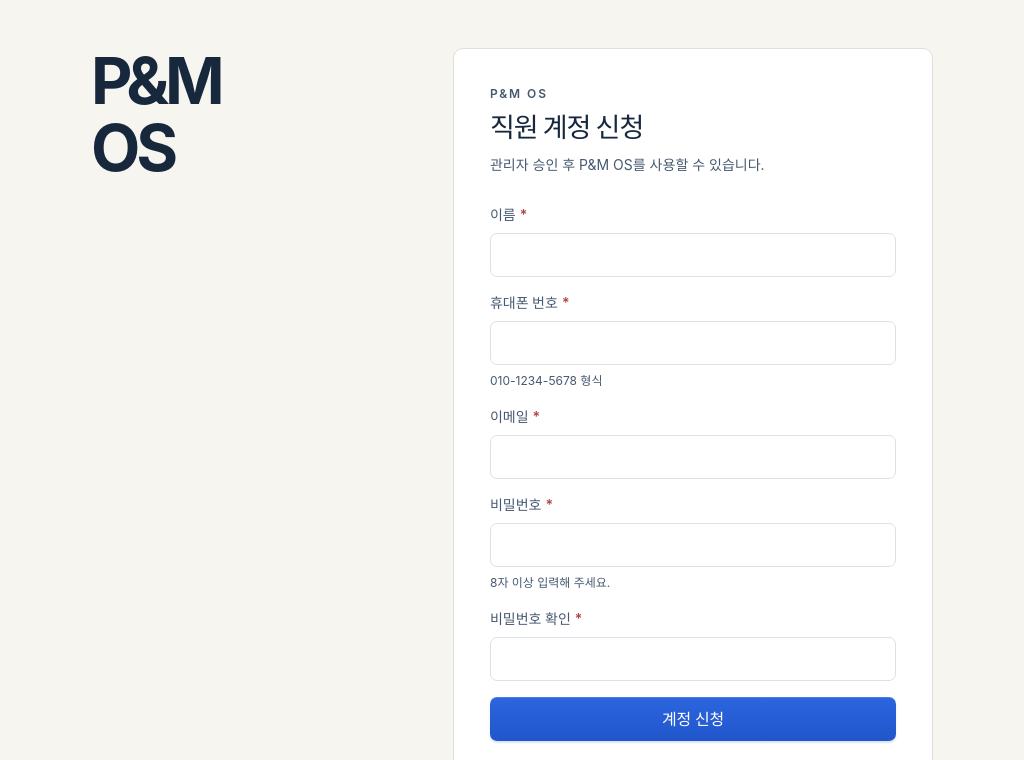
Test: Signup error presentation preserves validation and focus › keeps the original field label and associates the nearby error without submitting
Click the button "계정 신청" at (693, 719), box x1=490 y1=697 x2=896 y2=741
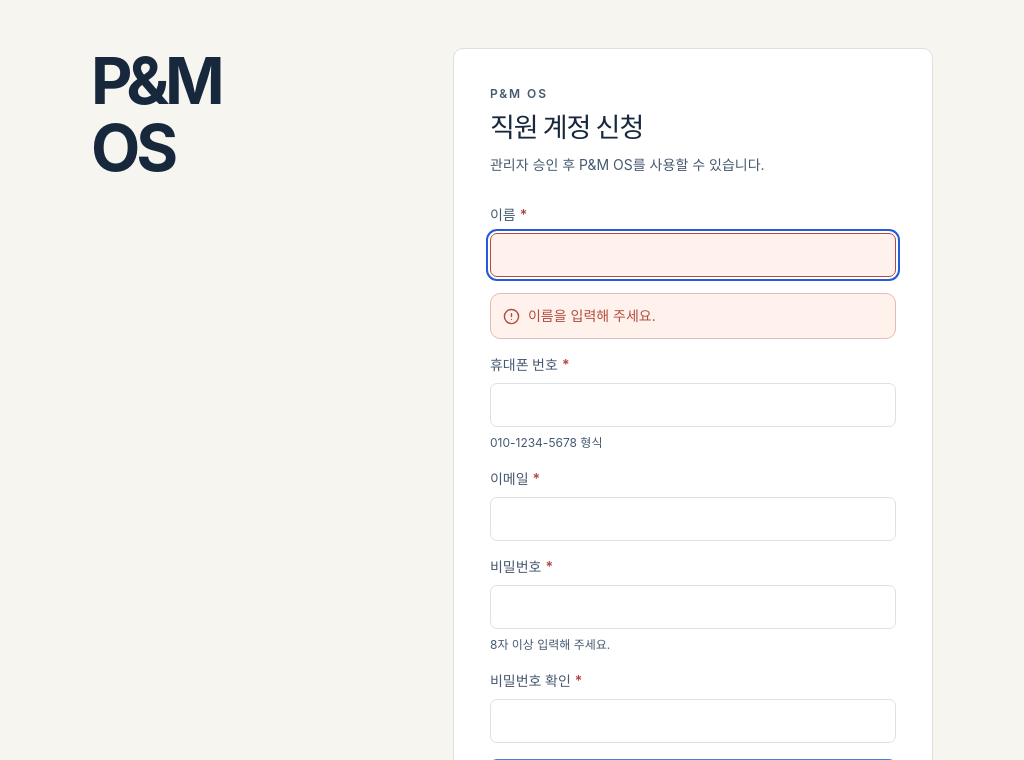
Expected: the message reads "이름을 입력해 주세요.", x1=528 y1=307 x2=656 y2=324
